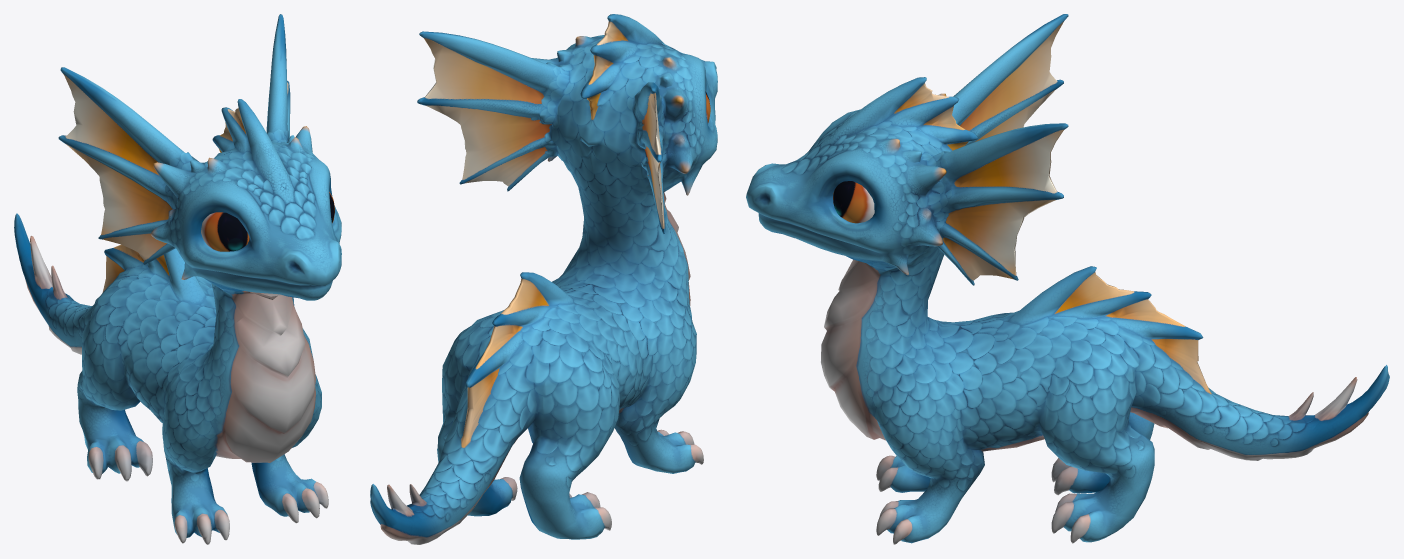
Rendered from baby_teen_dragon.glb.
3 renders of one model, left to right at view 1: azimuth 30°, elevation 25°; view 2: azimuth 150°, elevation 25°; view 3: azimuth 270°, elevation 25°, orthographic. The views are drawn at different scales.
Parts seen in each view (by area): view 1: Baby_dragon; view 2: Baby_dragon; view 3: Baby_dragon.
Boxes of the visible parts, <box> form: Baby_dragon: <box>14,14,341,544</box>; Baby_dragon: <box>370,14,717,544</box>; Baby_dragon: <box>746,14,1389,544</box>.
Size of the model in its own units: 0.075 by 0.1329 by 0.1759.
Materials: 1 (1 with a texture image).
